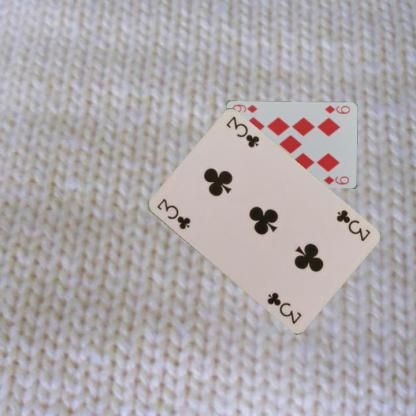3c: (333, 207, 371, 243), (154, 196, 192, 231)
9d: (322, 103, 351, 115)
